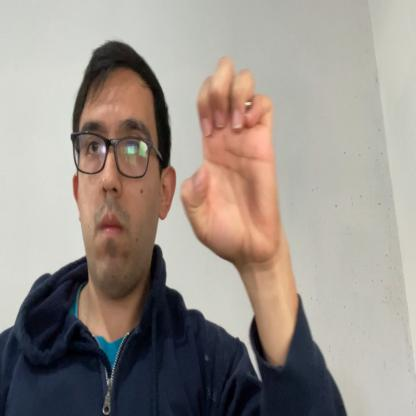E: (181, 54, 280, 261)
